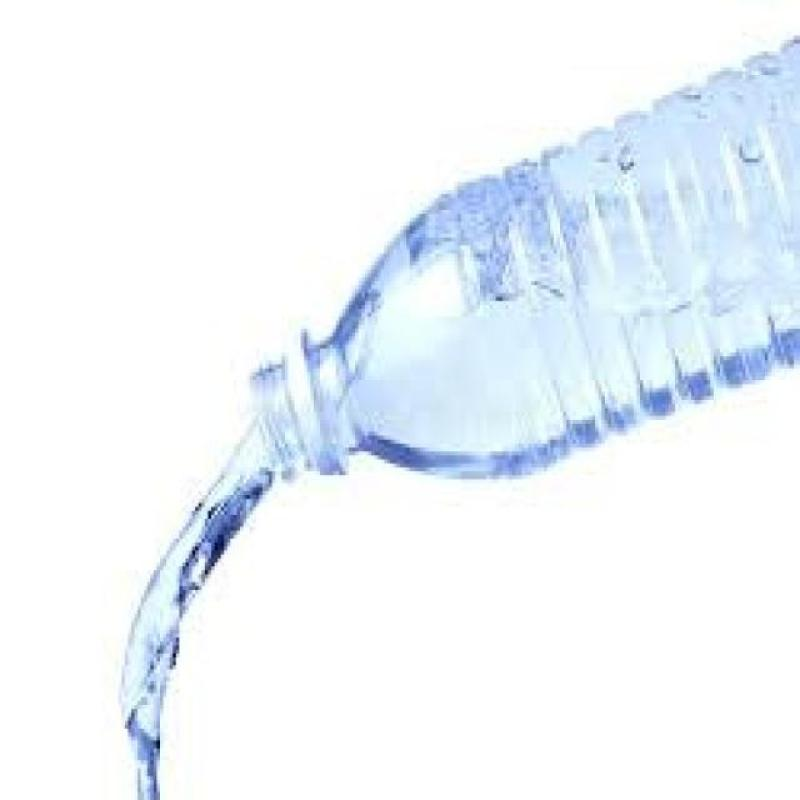botella: (246, 34, 800, 481)
